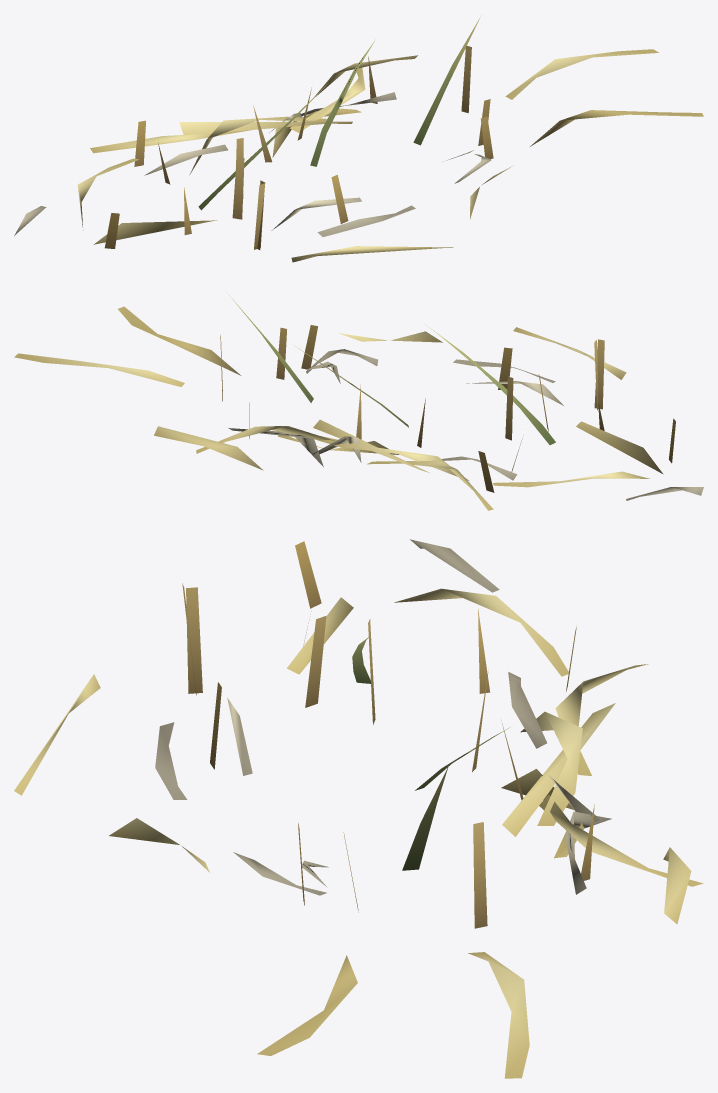
The model's file is MownClippings_LOD0.glb.
3 views of the same model, one above another, from view 1: azimuth 30°, elevation 25°; view 2: azimuth 150°, elevation 25°; view 3: azimuth 270°, elevation 25° (orthographic). The views are drawn at different scales.
Visible parts, largest first — view 1: MownClippings_LOD0; view 2: MownClippings_LOD0; view 3: MownClippings_LOD0.
Boxes of the visible parts, <box> form: MownClippings_LOD0: <box>14,15,703,262</box>; MownClippings_LOD0: <box>14,293,703,510</box>; MownClippings_LOD0: <box>14,539,703,1078</box>.
Size of the model in its own units: 0.3649 by 0.0591 by 0.2003.
